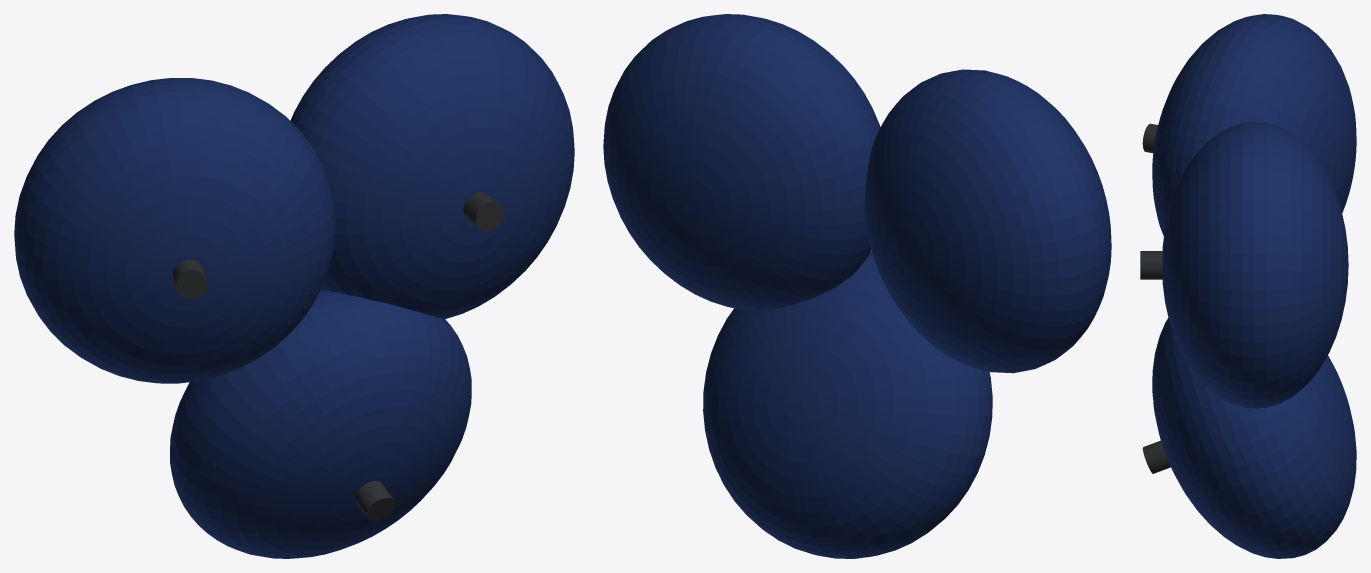
Rendered from tinker.obj.
3 views of the same model, side by side, from view 1: azimuth 30°, elevation 25°; view 2: azimuth 150°, elevation 25°; view 3: azimuth 270°, elevation 25° (orthographic). The views are drawn at different scales.
Parts seen in each view (by area): view 1: obj_3, obj_5, obj_1, obj_4, obj_0, obj_2; view 2: obj_5, obj_1, obj_3; view 3: obj_5, obj_1, obj_3, obj_4, obj_0, obj_2.
Part boxes in pixels (bbox=[...]): obj_3: bbox=[14, 78, 335, 383]; obj_5: bbox=[290, 14, 574, 319]; obj_1: bbox=[170, 289, 471, 558]; obj_4: bbox=[463, 192, 503, 231]; obj_0: bbox=[354, 481, 394, 521]; obj_2: bbox=[172, 259, 207, 299]; obj_5: bbox=[603, 14, 880, 310]; obj_1: bbox=[703, 251, 992, 558]; obj_3: bbox=[865, 69, 1111, 373]; obj_5: bbox=[1162, 122, 1348, 408]; obj_1: bbox=[1152, 318, 1356, 558]; obj_3: bbox=[1152, 14, 1356, 236]; obj_4: bbox=[1140, 251, 1162, 279]; obj_0: bbox=[1142, 440, 1170, 473]; obj_2: bbox=[1142, 123, 1157, 153].
Bounding box in the file's own units: 16 × 14.93 × 6.42.
